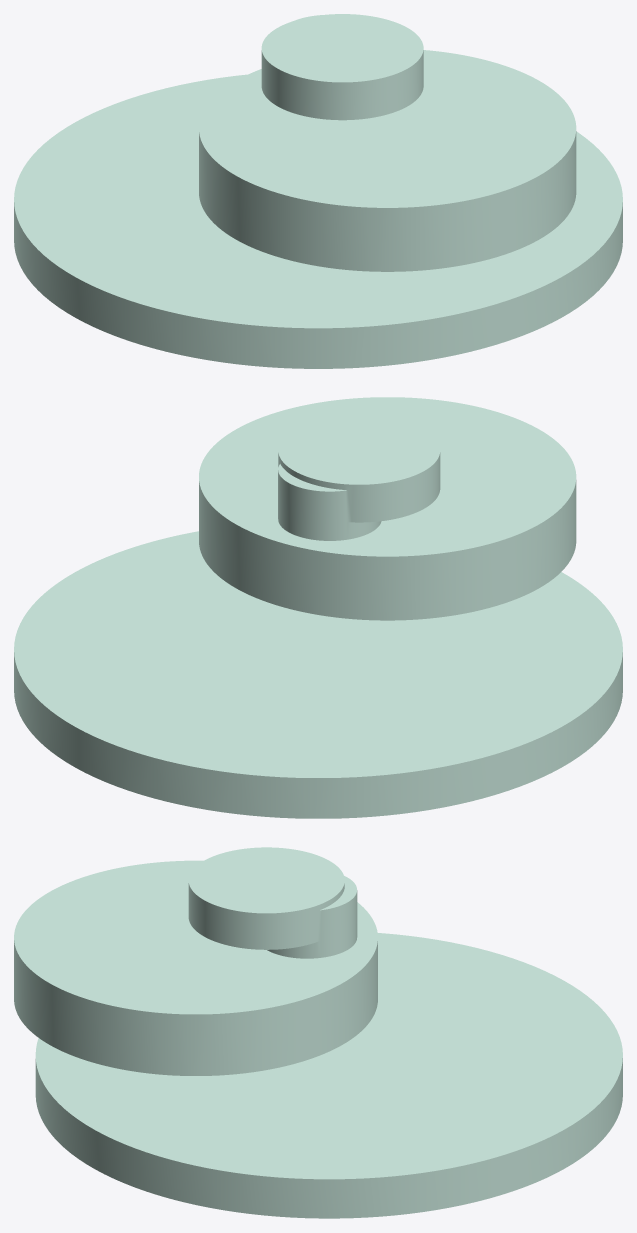
The picture shows the model from 3 angles, top to bottom: view 1: azimuth 30°, elevation 25°; view 2: azimuth 150°, elevation 25°; view 3: azimuth 270°, elevation 25°; orthographic projection. The views are drawn at different scales.
Visible parts, largest first — view 1: Renderer Node; view 2: Renderer Node; view 3: Renderer Node.
Part boxes in pixels (x1,y1,x2,y2): Renderer Node: (14,14,622,368); Renderer Node: (14,397,622,818); Renderer Node: (14,847,622,1218).
Bounding box in the file's own units: 1.48 × 0.5859 × 1.54.
